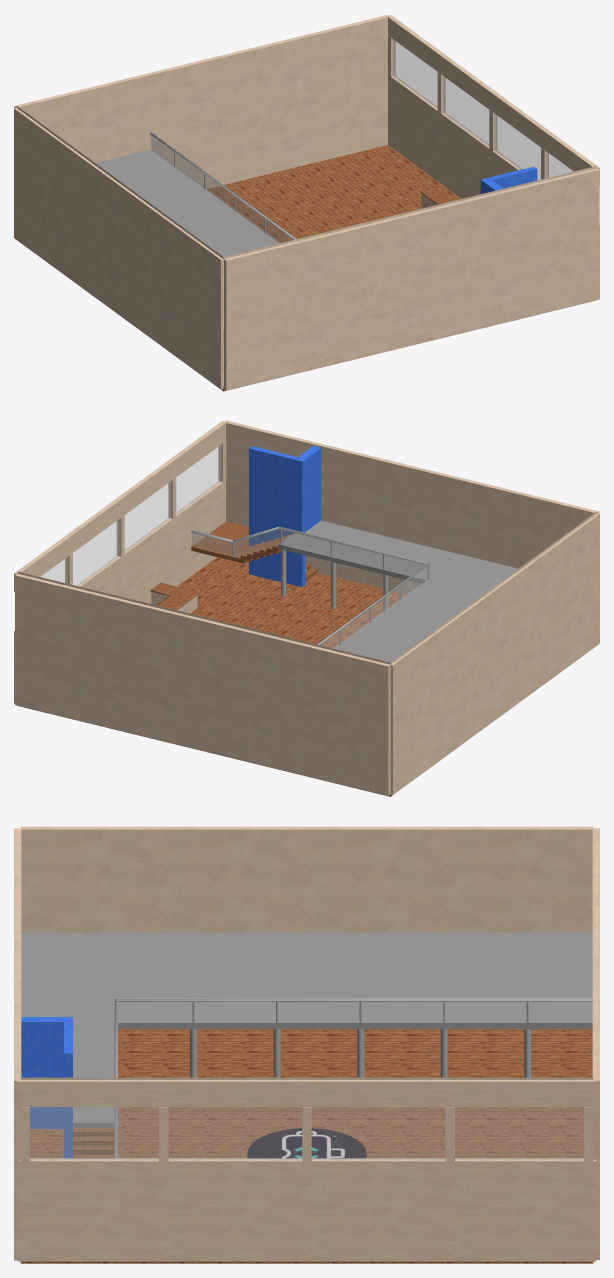
3 views of the same model, one above another, from view 1: azimuth 30°, elevation 25°; view 2: azimuth 150°, elevation 25°; view 3: azimuth 270°, elevation 25° (orthographic). The views are drawn at different scales.
Parts seen in each view (by area): view 1: VIS_wall_south, VIS_wall_north, VIS_wall_west, VIS_floor, VIS_wall_east_sill, VIS_balcony_west, VIS_wall_east_lintel, VIS_wall_east_glass_3, VIS_wall_east_glass_4, VIS_ceiling, VIS_wall_east_glass_2, VIS_stairs_divider (+2 smaller); view 2: VIS_wall_north, VIS_wall_west, VIS_wall_south, VIS_floor, VIS_wall_east_sill, VIS_balcony_west, VIS_stairs_divider, VIS_balcony_south, VIS_wall_east_lintel, VIS_wall_east_glass_3, VIS_wall_east_glass_2, VIS_wall_east_glass_1 (+10 smaller); view 3: VIS_wall_west, VIS_wall_east_sill, VIS_balcony_west, VIS_floor, VIS_wall_east_lintel, VIS_wall_east_glass_2, VIS_wall_east_glass_3, VIS_wall_east_glass_1, VIS_wall_east_glass_4, VIS_balcony_stair_wall, VIS_balcony_south, VIS_wall_south (+12 smaller).
Part boxes in pixels (x1,y1,x2,y2): VIS_wall_south: (224, 169, 599, 390); VIS_wall_north: (14, 15, 387, 188); VIS_wall_west: (14, 108, 223, 389); VIS_floor: (207, 145, 594, 391); VIS_wall_east_sill: (388, 75, 599, 297); VIS_balcony_west: (95, 149, 279, 338); VIS_wall_east_lintel: (386, 15, 599, 185); VIS_wall_east_glass_3: (443, 76, 488, 146); VIS_wall_east_glass_4: (393, 39, 437, 108); VIS_ceiling: (16, 106, 596, 261); VIS_wall_east_glass_2: (494, 114, 540, 179); VIS_stairs_divider: (480, 166, 537, 193); VIS_wall_north: (15, 574, 390, 795); VIS_wall_west: (390, 513, 599, 794); VIS_wall_south: (225, 420, 599, 594); VIS_floor: (17, 557, 406, 796); VIS_wall_east_sill: (14, 480, 225, 703); VIS_balcony_west: (334, 555, 518, 662); VIS_stairs_divider: (249, 446, 305, 587); VIS_balcony_south: (278, 520, 461, 583); VIS_wall_east_lintel: (14, 421, 226, 591); VIS_wall_east_glass_3: (73, 520, 119, 586); VIS_wall_east_glass_2: (125, 482, 170, 551); VIS_wall_east_glass_1: (176, 445, 220, 514); VIS_wall_west: (20, 826, 593, 932); VIS_wall_east_sill: (18, 1158, 596, 1261); VIS_balcony_west: (21, 932, 592, 1029); VIS_floor: (20, 1029, 593, 1263); VIS_wall_east_lintel: (18, 1078, 596, 1106); VIS_wall_east_glass_2: (169, 1107, 301, 1159); VIS_wall_east_glass_3: (312, 1107, 444, 1159); VIS_wall_east_glass_1: (30, 1107, 158, 1159); VIS_wall_east_glass_4: (455, 1107, 583, 1159); VIS_balcony_stair_wall: (21, 1017, 64, 1128); VIS_balcony_south: (46, 1023, 117, 1129); VIS_wall_south: (14, 828, 21, 1260).
Size of the model in its own units: 25.32 by 8.6 by 24.55.
8 materials, 5 textured.
